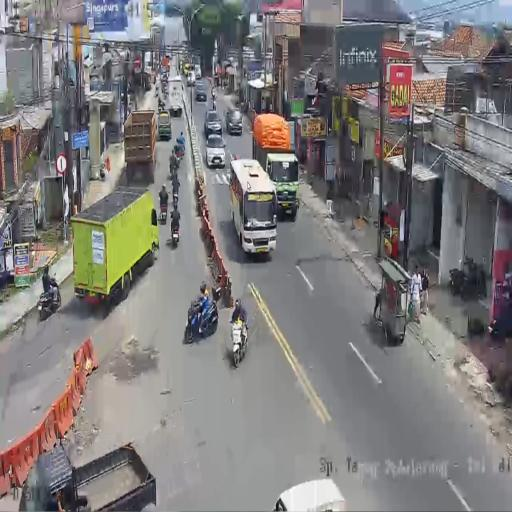car: (274, 476, 347, 510), (490, 272, 512, 335), (205, 133, 226, 169), (204, 107, 222, 138), (225, 107, 243, 135), (158, 108, 172, 140), (195, 80, 207, 102), (186, 69, 196, 86), (194, 64, 201, 80)
motorcycle: (185, 290, 218, 343), (37, 274, 62, 320), (230, 315, 248, 368), (170, 209, 180, 246), (158, 191, 168, 224), (168, 157, 177, 179), (162, 78, 168, 98), (158, 97, 165, 113), (155, 83, 159, 97)
truck: (70, 185, 160, 308), (252, 111, 298, 217), (122, 108, 156, 182), (166, 76, 184, 116), (142, 50, 156, 87)
